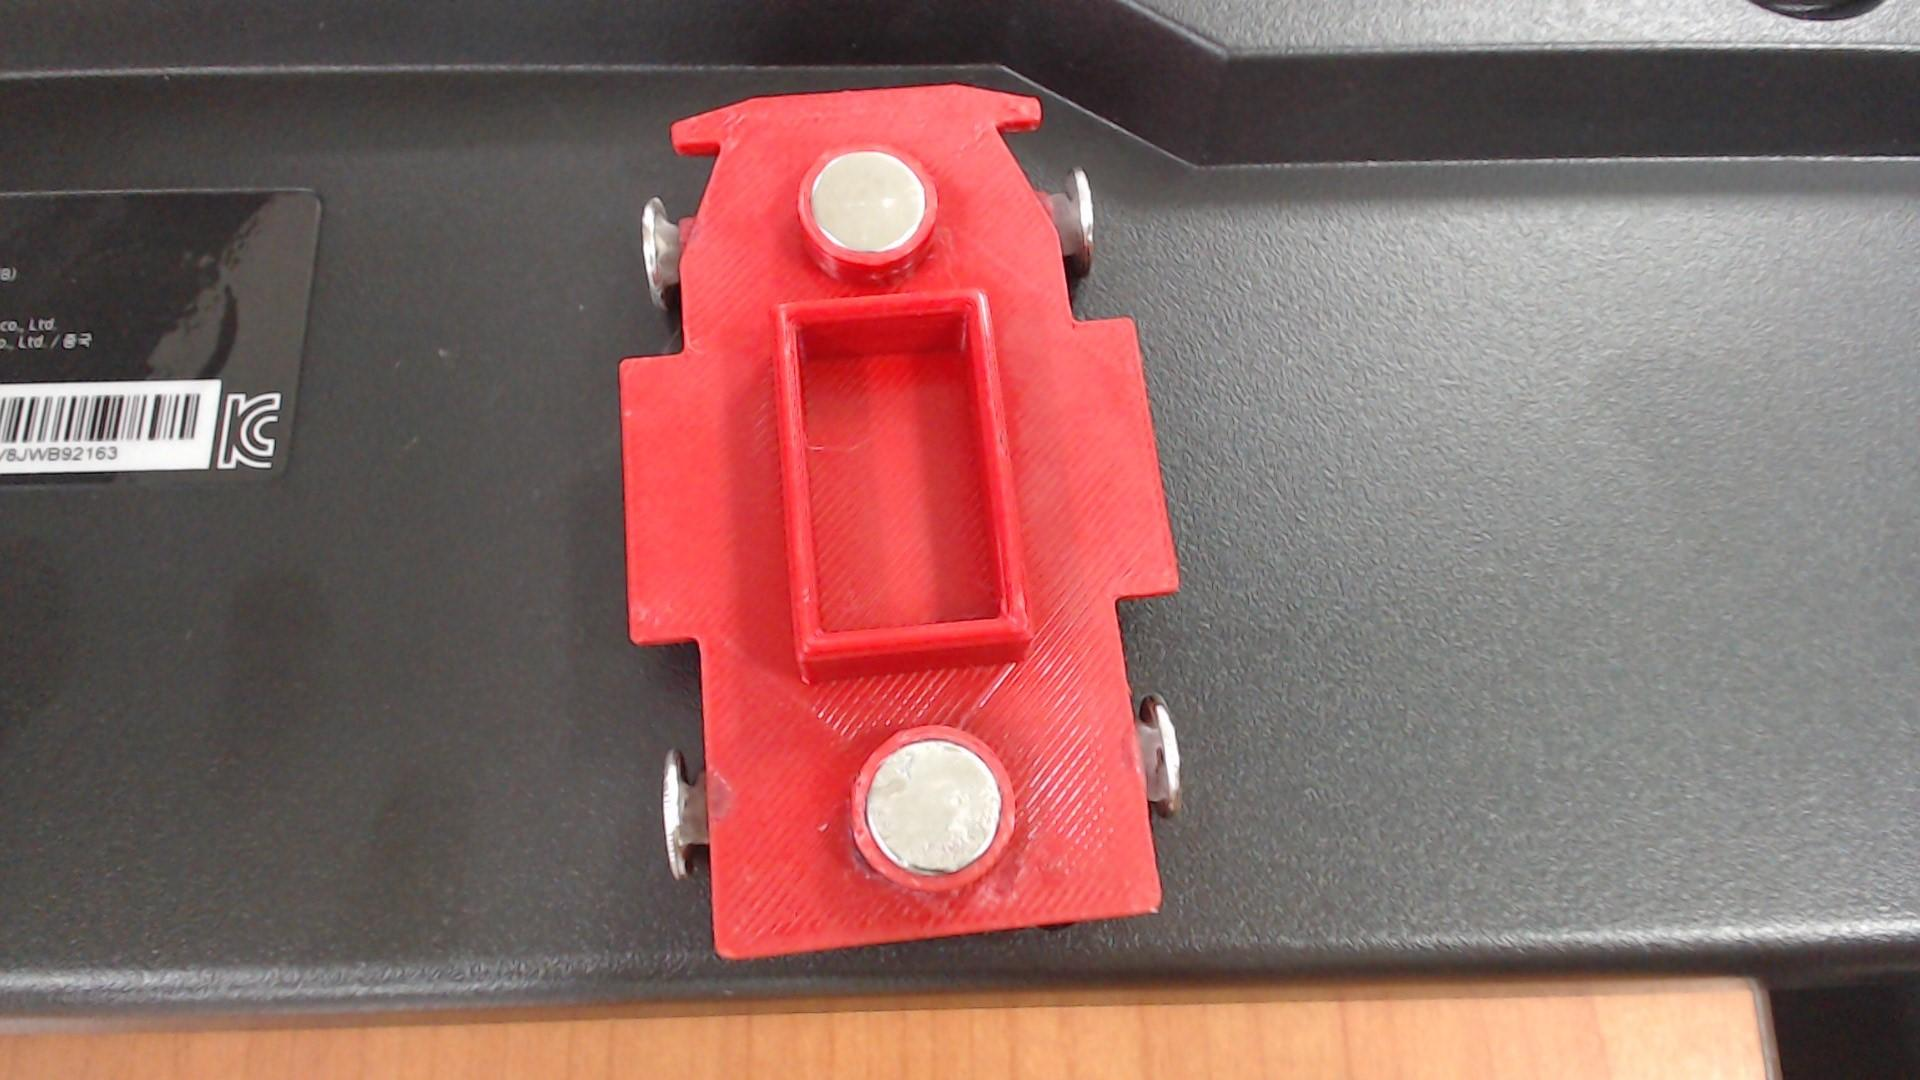lower_ok: (758, 276, 1048, 692)
